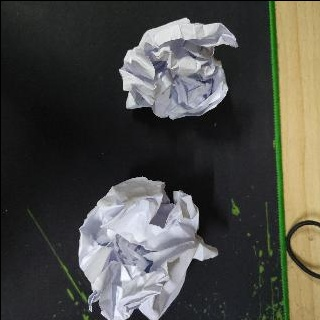8/可回收垃圾/纸: (78, 176, 218, 320), (118, 17, 239, 121)
